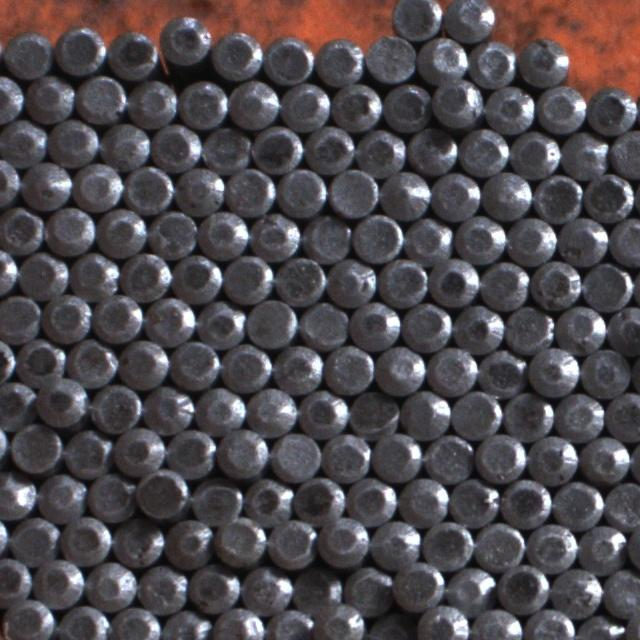tool: (158, 12, 210, 68), (89, 382, 142, 434), (211, 28, 263, 81), (8, 420, 61, 472), (214, 516, 266, 568), (136, 468, 188, 520), (498, 563, 551, 614), (363, 32, 416, 83), (107, 30, 158, 82), (59, 514, 110, 566), (369, 518, 420, 570), (216, 426, 268, 477), (112, 516, 164, 567), (186, 564, 239, 614), (370, 430, 421, 481), (165, 426, 216, 477), (393, 561, 444, 612), (274, 253, 324, 305), (266, 516, 316, 568), (474, 431, 524, 483), (318, 516, 368, 568), (532, 172, 582, 224), (428, 256, 478, 308), (584, 172, 634, 224), (112, 425, 164, 475), (3, 27, 52, 80), (229, 79, 279, 130), (280, 80, 330, 131), (272, 342, 322, 393), (531, 259, 581, 310), (96, 207, 146, 258), (33, 557, 83, 608), (422, 518, 473, 568), (448, 476, 499, 526), (54, 25, 104, 76), (36, 378, 87, 428), (242, 474, 293, 524), (296, 473, 348, 522), (128, 77, 178, 127), (558, 215, 608, 265), (580, 347, 630, 397), (482, 170, 532, 220), (528, 345, 578, 395), (178, 78, 228, 128), (330, 167, 380, 217), (123, 163, 173, 213), (86, 471, 136, 521), (583, 260, 633, 310), (556, 302, 606, 352), (453, 302, 503, 352), (44, 205, 94, 255), (450, 388, 500, 438), (240, 566, 290, 616), (270, 432, 320, 482), (507, 128, 557, 178), (262, 36, 312, 86), (331, 82, 381, 132), (527, 434, 577, 484), (349, 300, 399, 350), (144, 384, 194, 434), (118, 338, 168, 388), (252, 126, 302, 176), (67, 338, 117, 388), (69, 250, 119, 300), (478, 346, 528, 396), (137, 564, 186, 615), (313, 36, 362, 87), (62, 427, 111, 478), (503, 301, 552, 352), (381, 169, 430, 220), (76, 74, 126, 123), (222, 253, 271, 303), (9, 515, 58, 565), (353, 212, 402, 262), (485, 84, 534, 134), (428, 344, 478, 393), (457, 126, 506, 176), (430, 171, 479, 221), (552, 567, 602, 616), (423, 433, 472, 483), (555, 390, 604, 440), (378, 256, 428, 305), (507, 214, 556, 264), (148, 209, 198, 258), (455, 213, 504, 263), (536, 83, 585, 133), (324, 343, 374, 392), (321, 430, 370, 480), (86, 560, 136, 609), (382, 82, 431, 132), (21, 161, 71, 210), (502, 390, 552, 439), (170, 338, 219, 388), (246, 298, 296, 347), (407, 124, 456, 174), (474, 520, 523, 570), (480, 260, 530, 309), (432, 78, 482, 127), (579, 434, 628, 484), (399, 389, 449, 438), (401, 300, 450, 350), (501, 478, 551, 527), (344, 566, 393, 616), (17, 338, 67, 387), (292, 567, 342, 616), (518, 40, 568, 89), (172, 252, 220, 303), (43, 291, 91, 342), (191, 477, 242, 525), (279, 166, 328, 215), (302, 212, 351, 261), (221, 342, 270, 391), (250, 211, 299, 260), (559, 130, 608, 179), (248, 386, 297, 435), (553, 479, 602, 528), (25, 73, 74, 122), (586, 87, 635, 136), (305, 125, 354, 174), (299, 299, 348, 348), (399, 475, 448, 524), (49, 117, 99, 165), (326, 256, 374, 306), (225, 166, 275, 214), (528, 520, 578, 568), (202, 124, 250, 174), (298, 389, 348, 437), (121, 252, 169, 302), (165, 516, 213, 566), (195, 386, 245, 434), (18, 250, 68, 298), (151, 122, 199, 171), (376, 344, 425, 392), (404, 214, 452, 263), (73, 162, 122, 210), (578, 522, 626, 571), (176, 164, 224, 213), (199, 210, 248, 258), (355, 128, 404, 176), (420, 35, 468, 84), (445, 564, 494, 612), (94, 294, 142, 343), (145, 296, 194, 344), (349, 389, 397, 438), (38, 471, 86, 520), (347, 476, 396, 524), (197, 300, 246, 348), (102, 120, 150, 168), (468, 38, 516, 86), (0, 596, 52, 640), (0, 118, 47, 164), (55, 600, 109, 640), (0, 204, 43, 254), (0, 292, 41, 342), (390, 0, 441, 40), (448, 0, 497, 41), (416, 603, 469, 640), (602, 568, 640, 618), (315, 603, 365, 640), (604, 480, 640, 530), (110, 604, 160, 640), (212, 606, 264, 640), (0, 470, 36, 519), (605, 390, 640, 440), (265, 605, 315, 640), (0, 378, 35, 428), (471, 606, 521, 640), (524, 606, 574, 640), (160, 608, 211, 640), (608, 303, 640, 352), (609, 217, 640, 266), (609, 128, 640, 176), (0, 554, 29, 605), (574, 614, 624, 640), (366, 613, 414, 640), (0, 73, 23, 123), (0, 336, 20, 384), (0, 156, 19, 206)
